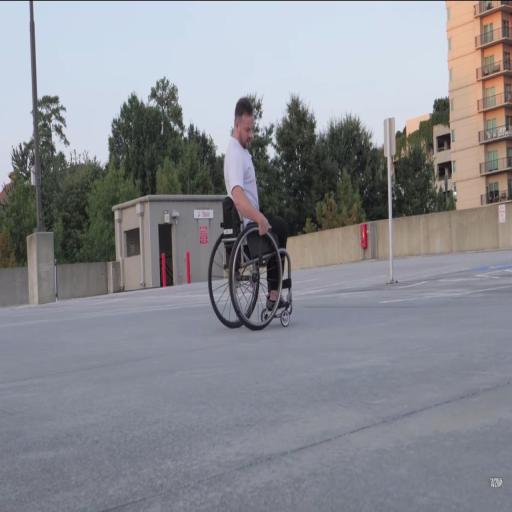cadeira_de_rodas: (211, 95, 296, 332)
